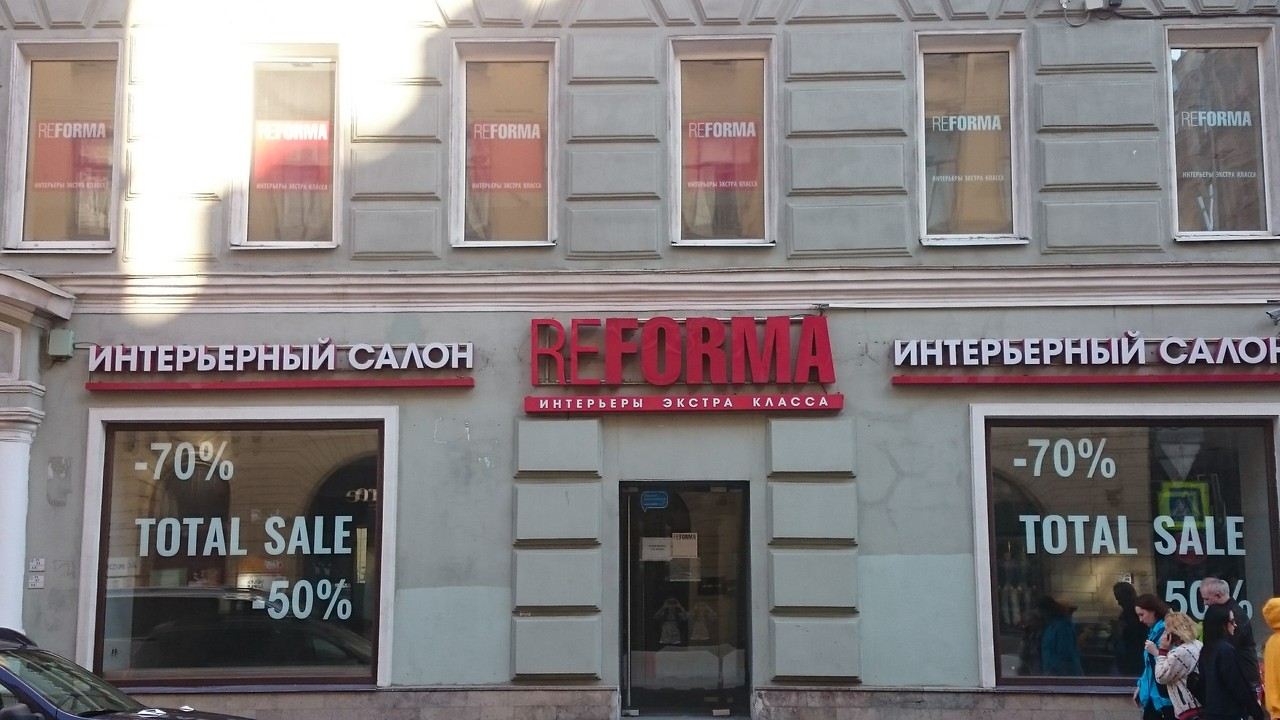door: (621, 482, 751, 717)
signboard: (522, 314, 845, 414), (89, 342, 474, 390), (891, 340, 1280, 384)
window: (981, 419, 1280, 686), (95, 422, 379, 685), (1166, 38, 1273, 233), (19, 57, 120, 247), (918, 47, 1017, 240), (457, 58, 553, 247), (676, 53, 767, 247), (243, 58, 336, 247)
